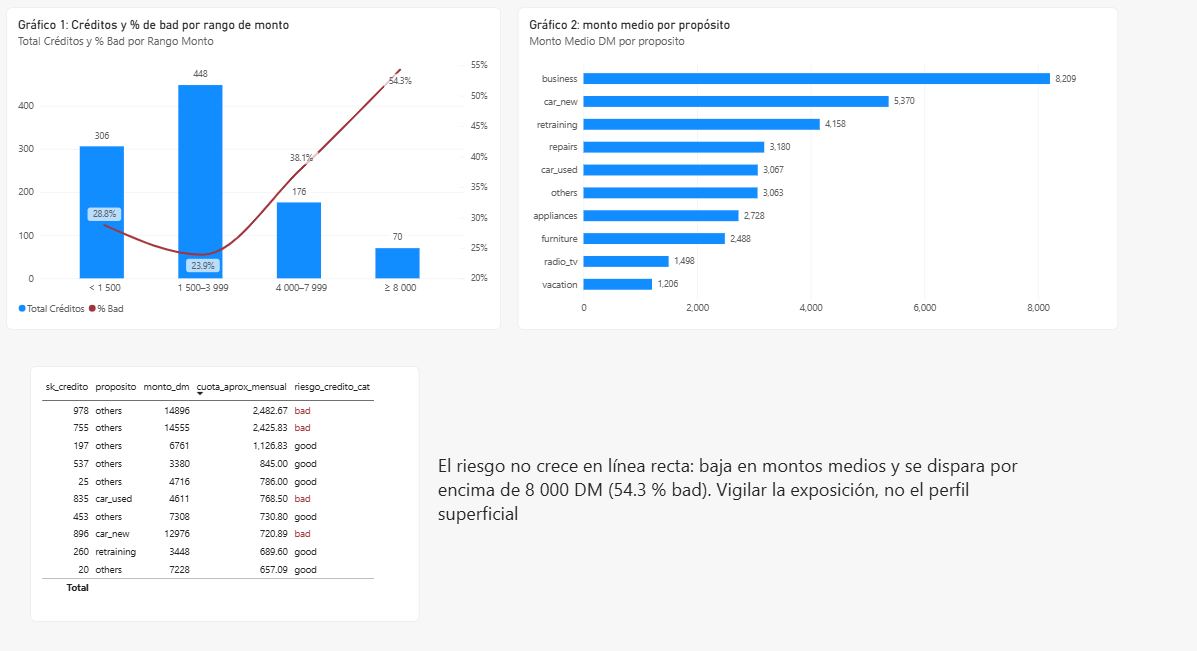

The dashboard page shown, as its layout file describes it:
{"tool":"powerbi","page":{"name":"Página 3: ¿Cuánta exposición?","canvas":[1920,1080],"ordinal":2},"visuals":[{"type":"lineClusteredColumnComboChart","title":"Gráfico 1: Créditos y % de bad por rango de monto","fields":{"Category":["dm_riesgo_crediticio.Rango Monto"],"Y":["dm_riesgo_crediticio.Total Créditos"],"Y2":["dm_riesgo_crediticio.% Bad"]},"box":[34,40,728,474],"z":0},{"type":"clusteredBarChart","title":"Gráfico 2: monto medio por propósito","fields":{"Category":["dm_riesgo_crediticio.proposito"],"Y":["dm_riesgo_crediticio.Monto Medio DM"]},"box":[786,40,884,474],"z":1000},{"type":"tableEx","fields":{"Values":["dm_riesgo_crediticio.sk_credito","dm_riesgo_crediticio.proposito","dm_riesgo_crediticio.monto_dm","dm_riesgo_crediticio.cuota_aprox_mensual","dm_riesgo_crediticio.riesgo_credito_cat"]},"box":[68.2,568.5,572.6,376.2],"z":2000},{"type":"textbox","box":[668,696,890,106],"z":3000}]}

Visuals, with their boxes on the page's 1920x1080 design canvas (x1, y1, x2, y2). These are canvas units, not pixel positions in the 1197x651 screenshot, which may show the page scaled, cropped or inside an application window:
"Gráfico 1: Créditos y % de bad por rango de monto" lineClusteredColumnComboChart: bbox=[34, 40, 762, 514]
"Gráfico 2: monto medio por propósito" clusteredBarChart: bbox=[786, 40, 1670, 514]
tableEx - dm_riesgo_crediticio.sk_credito x dm_riesgo_crediticio.proposito: bbox=[68, 568, 641, 945]
textbox: bbox=[668, 696, 1558, 802]
